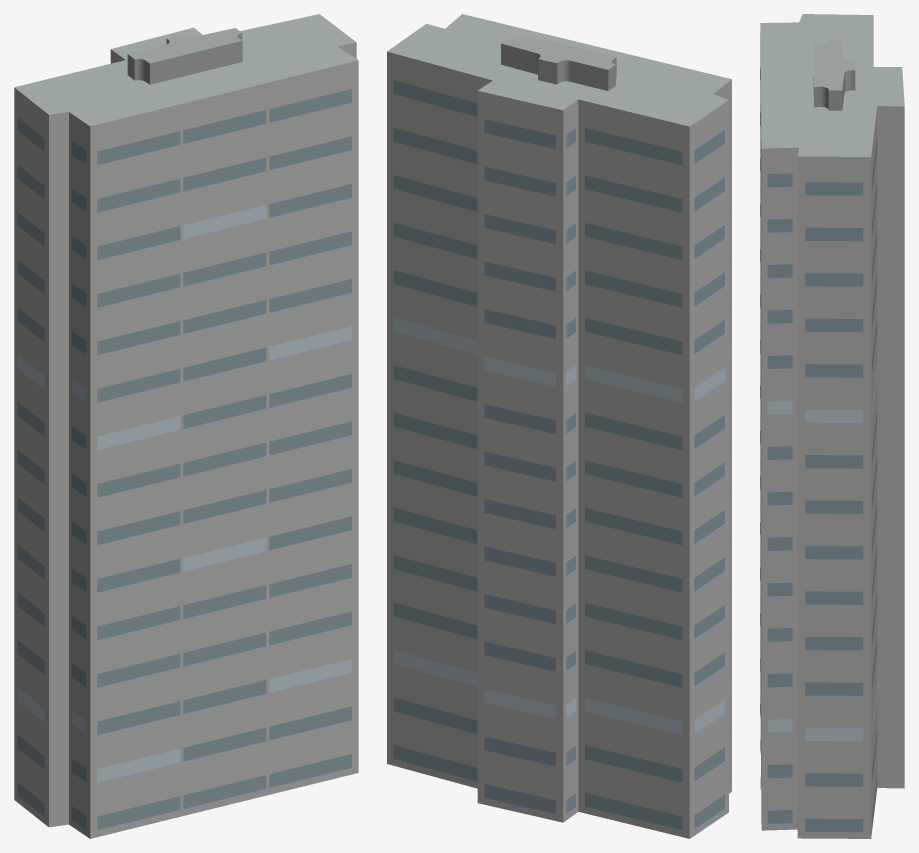
The model's file is fallback-gangdong-lotte-castle-first-113.glb.
The picture shows the model from 3 angles, left to right: view 1: azimuth 30°, elevation 25°; view 2: azimuth 150°, elevation 25°; view 3: azimuth 270°, elevation 25°; orthographic projection. The views are drawn at different scales.
Parts seen in each view (by area): view 1: fallback-gangdong-lotte-castle-first-113; view 2: fallback-gangdong-lotte-castle-first-113; view 3: fallback-gangdong-lotte-castle-first-113.
Part boxes in pixels (bbox=[...]): fallback-gangdong-lotte-castle-first-113: bbox=[14, 14, 358, 838]; fallback-gangdong-lotte-castle-first-113: bbox=[387, 14, 731, 838]; fallback-gangdong-lotte-castle-first-113: bbox=[760, 14, 904, 838].
Size of the model in its own units: 36.31 by 83 by 15.53.
